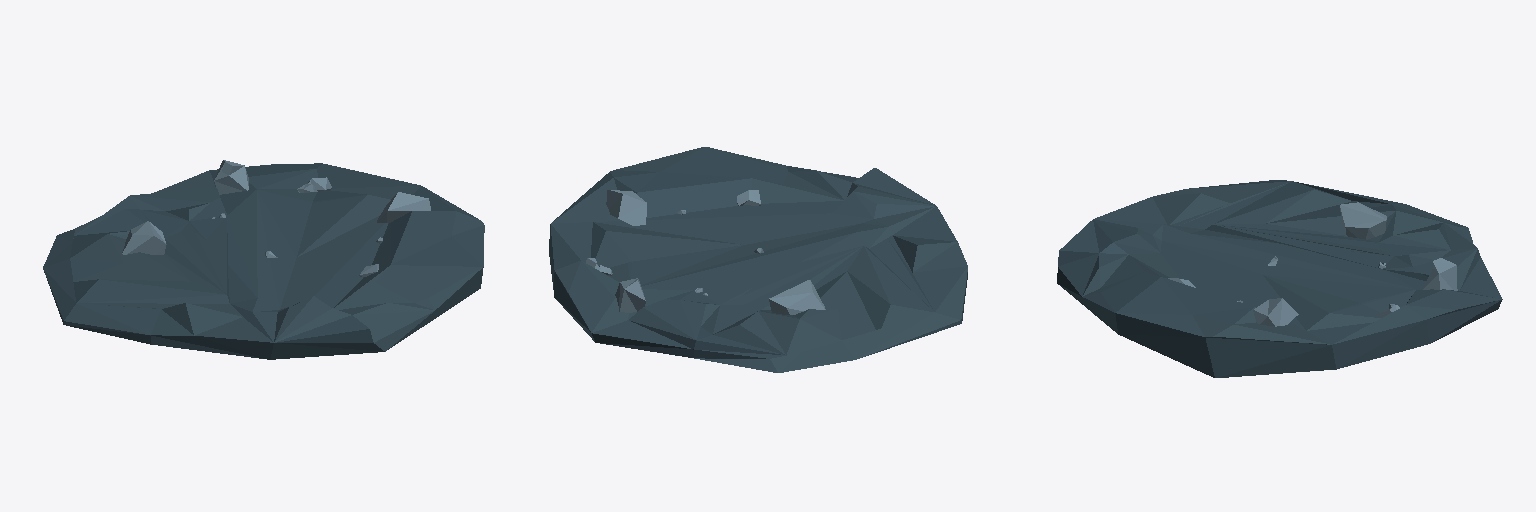
3 views of the same model, side by side, from view 1: azimuth 30°, elevation 25°; view 2: azimuth 150°, elevation 25°; view 3: azimuth 270°, elevation 25° (orthographic).
Visible parts, largest first — view 1: group[number redacted], group[number redacted], group[number redacted], group[number redacted]; view 2: group[number redacted], group[number redacted], group[number redacted], group[number redacted]; view 3: group[number redacted], group[number redacted], group[number redacted], group[number redacted].
Boxes of the visible parts, <box> form: group[number redacted]: <box>43,163,484,359</box>; group[number redacted]: <box>122,221,166,254</box>; group[number redacted]: <box>377,192,430,223</box>; group[number redacted]: <box>214,160,248,194</box>; group[number redacted]: <box>549,147,967,372</box>; group[number redacted]: <box>769,280,825,314</box>; group[number redacted]: <box>606,190,646,225</box>; group[number redacted]: <box>615,278,645,312</box>; group[number redacted]: <box>1057,180,1502,377</box>; group[number redacted]: <box>1340,202,1386,239</box>; group[number redacted]: <box>1253,298,1298,326</box>; group[number redacted]: <box>1423,258,1457,290</box>.
Bounding box in the file's own units: 7.54 × 1.05 × 7.52.